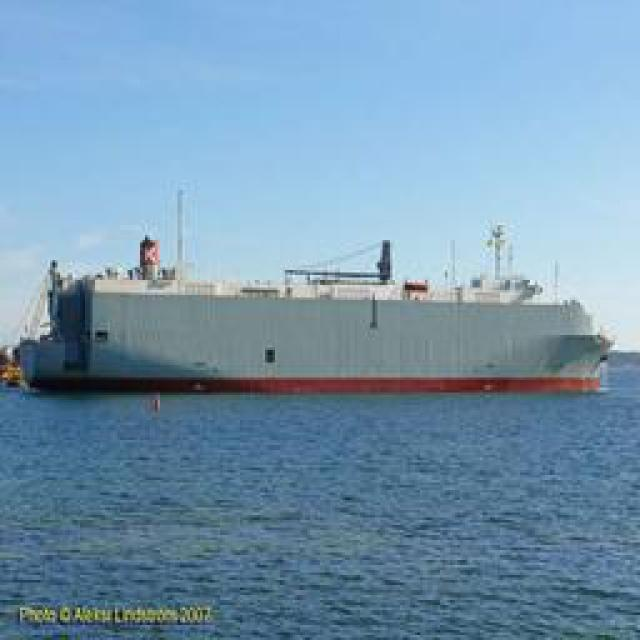Ship: (28, 208, 603, 403)
